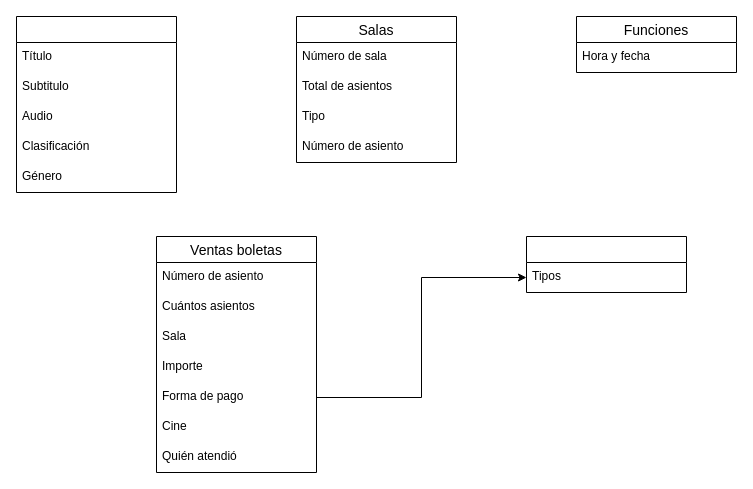
The diagram is 753 pixels wide and 489 high, and some of its shapes have lost their labels. The box of each missing label's shape, as (x1, y1, x2, y2) in pixels:
Formas de pago: (526, 236, 686, 292)
Películas: (16, 16, 176, 192)
